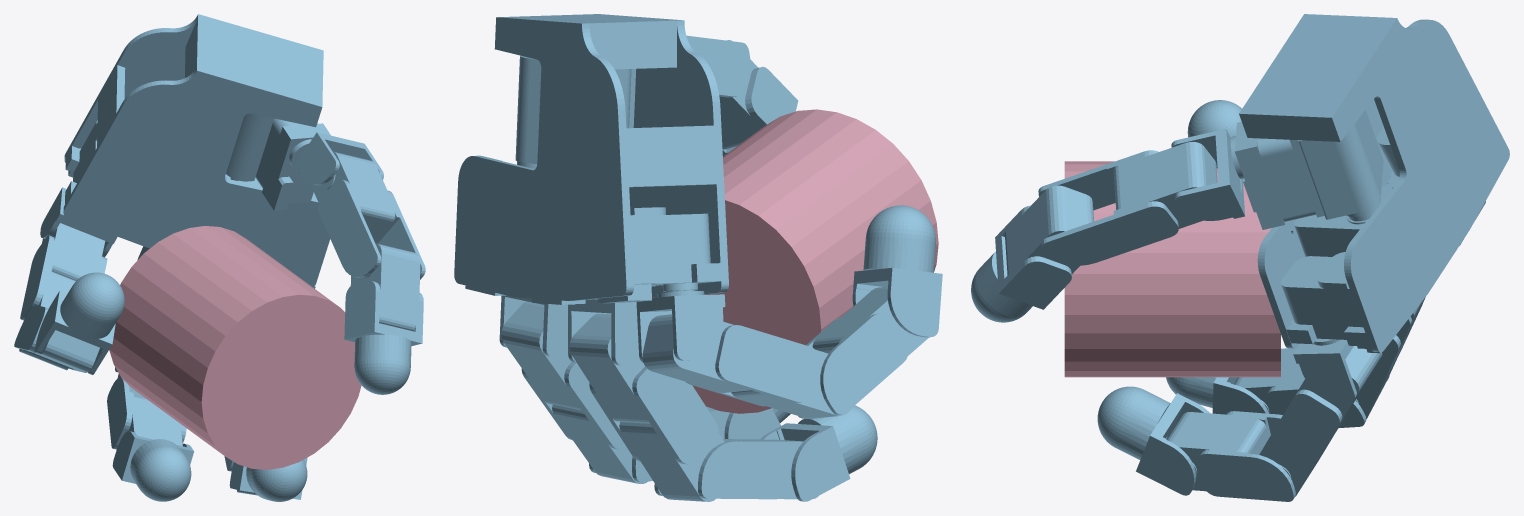
3 renders of one model, left to right at view 1: azimuth 30°, elevation 25°; view 2: azimuth 150°, elevation 25°; view 3: azimuth 270°, elevation 25°, orthographic. The views are drawn at different scales.
Parts seen in each view (by area): view 1: world, cylinder_medium.stl; view 2: world, cylinder_medium.stl; view 3: world, cylinder_medium.stl.
Boxes of the visible parts, x1,y1,x2,y2 form: world: (14, 14, 425, 501); cylinder_medium.stl: (109, 226, 361, 469); world: (454, 14, 942, 501); cylinder_medium.stl: (652, 109, 938, 413); world: (971, 14, 1509, 501); cylinder_medium.stl: (1064, 161, 1280, 377).
Bounding box in the file's own units: 0.168 × 0.1947 × 0.1992.
